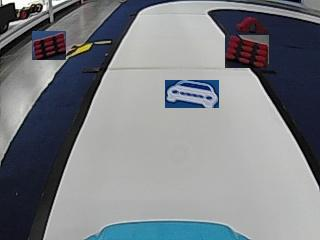bridge: (237, 16, 266, 34)
